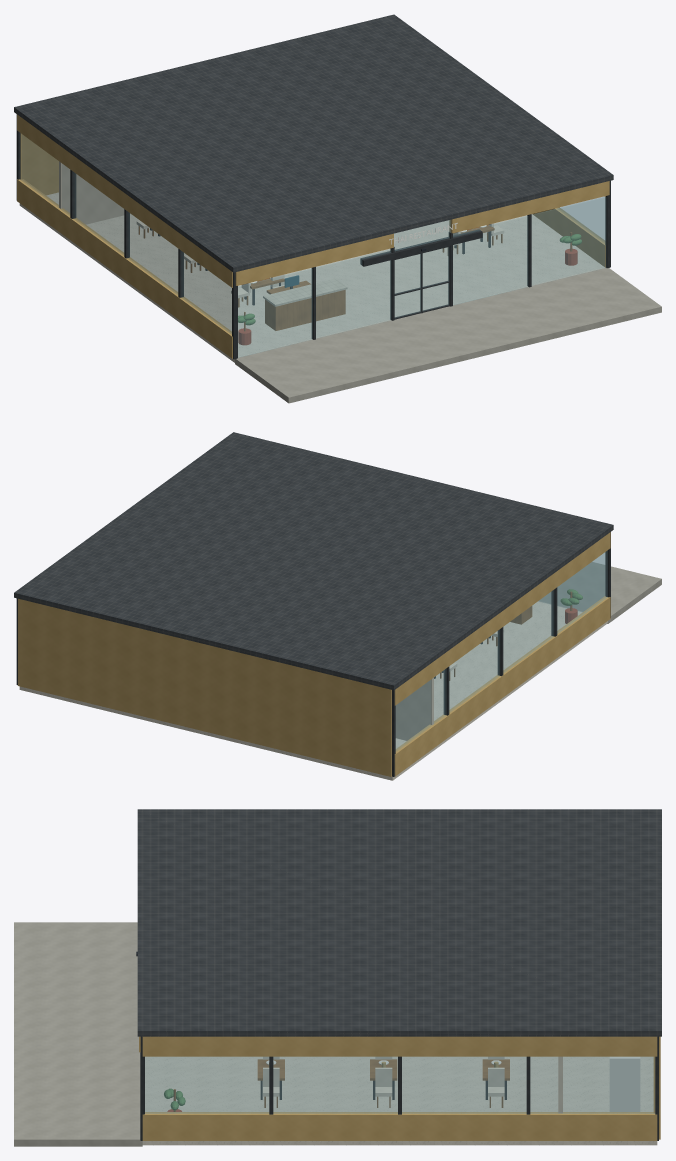
Rendered from 06_Thai_Restaurant_LOD1.glb.
3 renders of one model, top to bottom at view 1: azimuth 30°, elevation 25°; view 2: azimuth 150°, elevation 25°; view 3: azimuth 270°, elevation 25°, orthographic. The views are drawn at different scales.
Visible parts, largest first — view 1: Roof, Floor, Approach, Front glazing, Front glazing.001, Side glazing, Side base wall, Side upper wall, Front band.001, Front band, Internal partition, Service counter (+8 smaller); view 2: Roof, Rear wall, Side glazing, Floor, Side base wall, Side upper wall, Approach, Internal partition, Front glazing; view 3: Roof, Side glazing.001, Approach, Floor, Side base wall.001, Side upper wall.001, Fridge.
Part boxes in pixels (left/top/right/bottom): Roof: left=14, top=14, right=613, bottom=272; Floor: left=19, top=192, right=605, bottom=362; Approach: left=235, top=268, right=661, bottom=403; Front glazing: left=238, top=249, right=391, bottom=357; Front glazing.001: left=453, top=197, right=606, bottom=304; Side glazing: left=20, top=133, right=231, bottom=333; Side base wall: left=17, top=179, right=232, bottom=358; Side upper wall: left=17, top=114, right=232, bottom=287; Front band.001: left=449, top=181, right=609, bottom=233; Front band: left=235, top=233, right=393, bottom=285; Internal partition: left=59, top=161, right=130, bottom=224; Service counter: left=265, top=290, right=345, bottom=330; Roof: left=14, top=432, right=613, bottom=690; Rear wall: left=18, top=598, right=391, bottom=776; Side glazing: left=396, top=551, right=607, bottom=751; Floor: left=19, top=601, right=607, bottom=780; Side base wall: left=394, top=596, right=610, bottom=776; Side upper wall: left=394, top=532, right=610, bottom=705; Approach: left=539, top=562, right=661, bottom=623; Internal partition: left=395, top=677, right=433, bottom=740; Front glazing: left=539, top=553, right=604, bottom=611; Roof: left=137, top=809, right=661, bottom=1036; Side glazing.001: left=145, top=1057, right=654, bottom=1113; Approach: left=14, top=922, right=142, bottom=1146; Floor: left=142, top=1056, right=657, bottom=1145; Side base wall.001: left=142, top=1112, right=657, bottom=1140; Side upper wall.001: left=142, top=1036, right=657, bottom=1056; Fridge: left=609, top=1056, right=640, bottom=1111.
Size of the model in its own units: 16.3 by 4.04 by 20.15.
17 materials, 11 textured.
